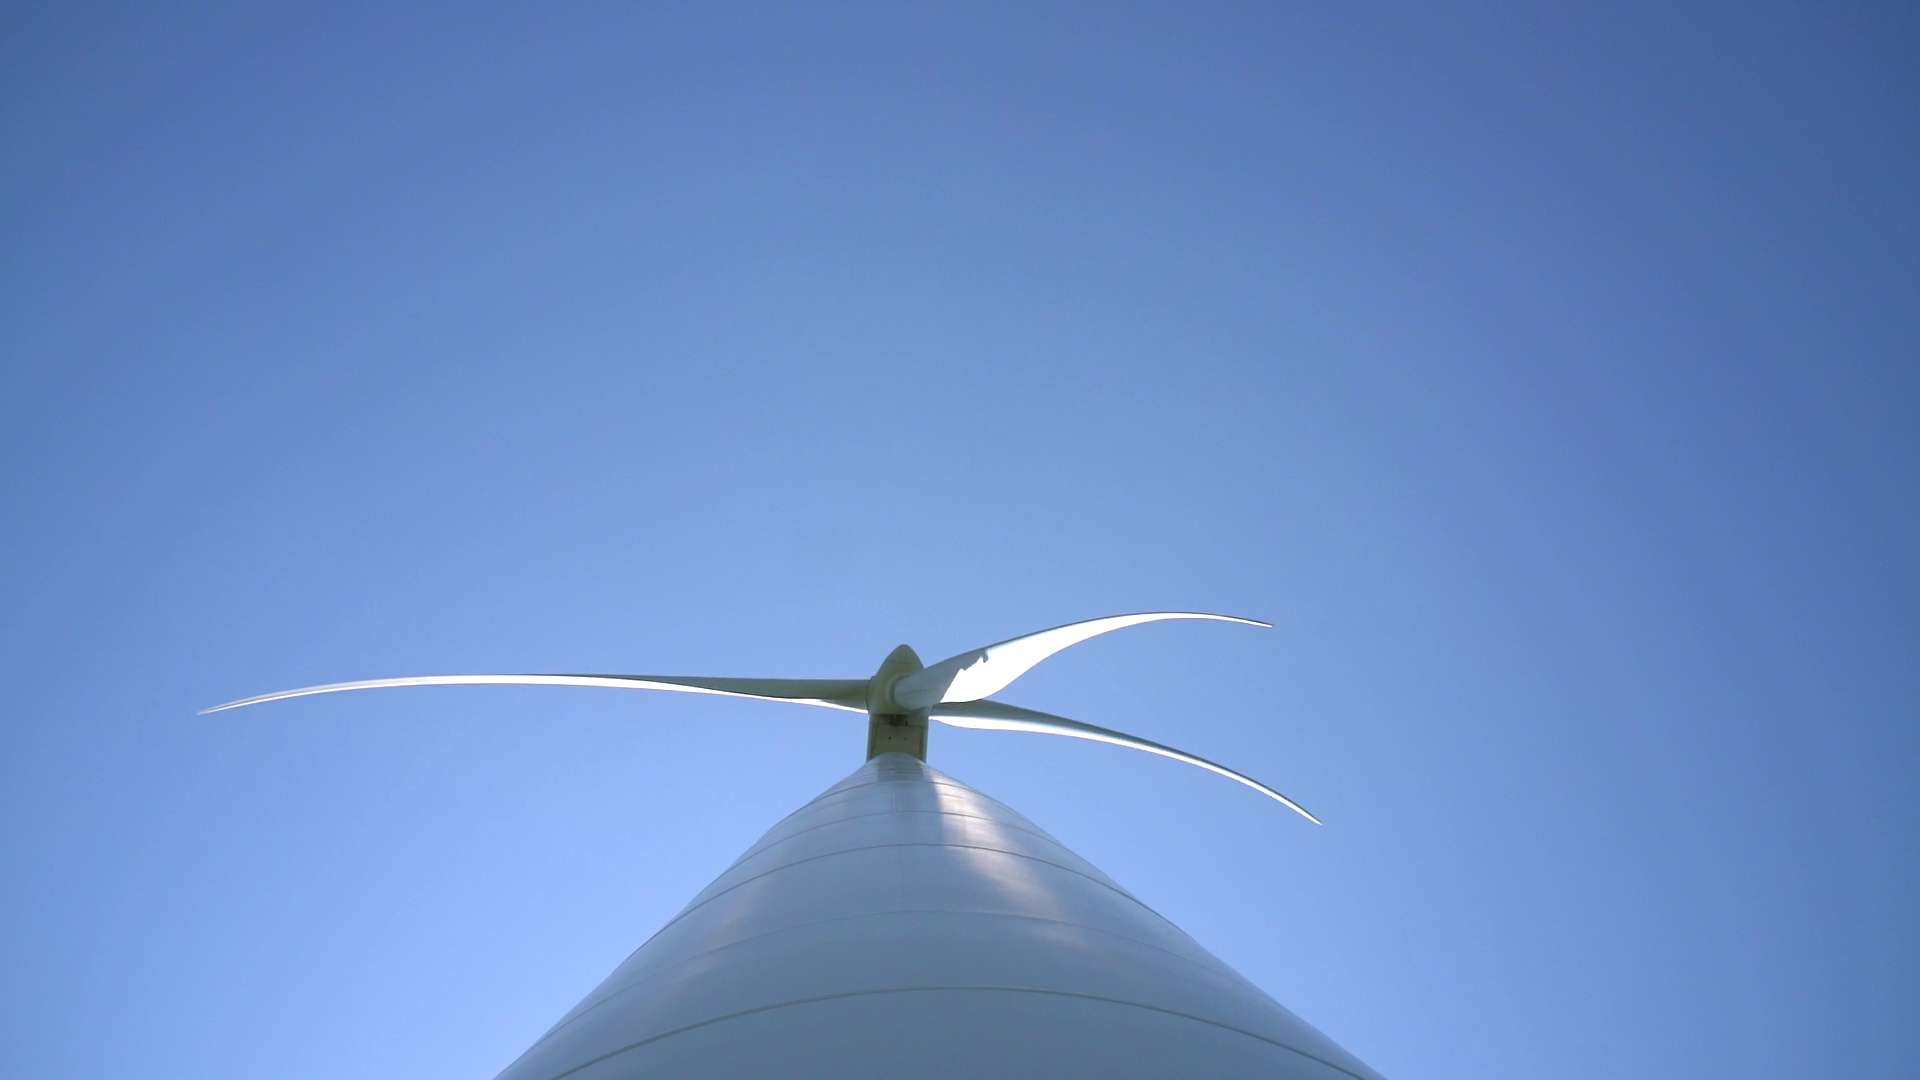turbine: (179, 669, 891, 767), (924, 684, 1352, 837), (897, 578, 1370, 695)
